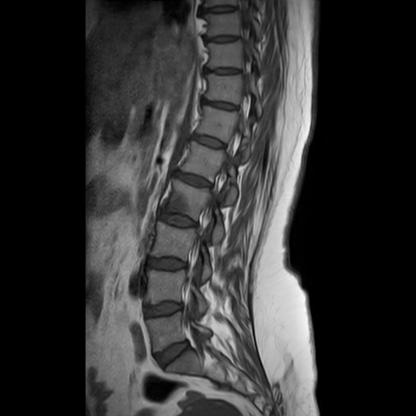Degenerative Disc Diseaserotation: (170, 168, 218, 191)
Disc Bulgerotation: (139, 298, 191, 325)
